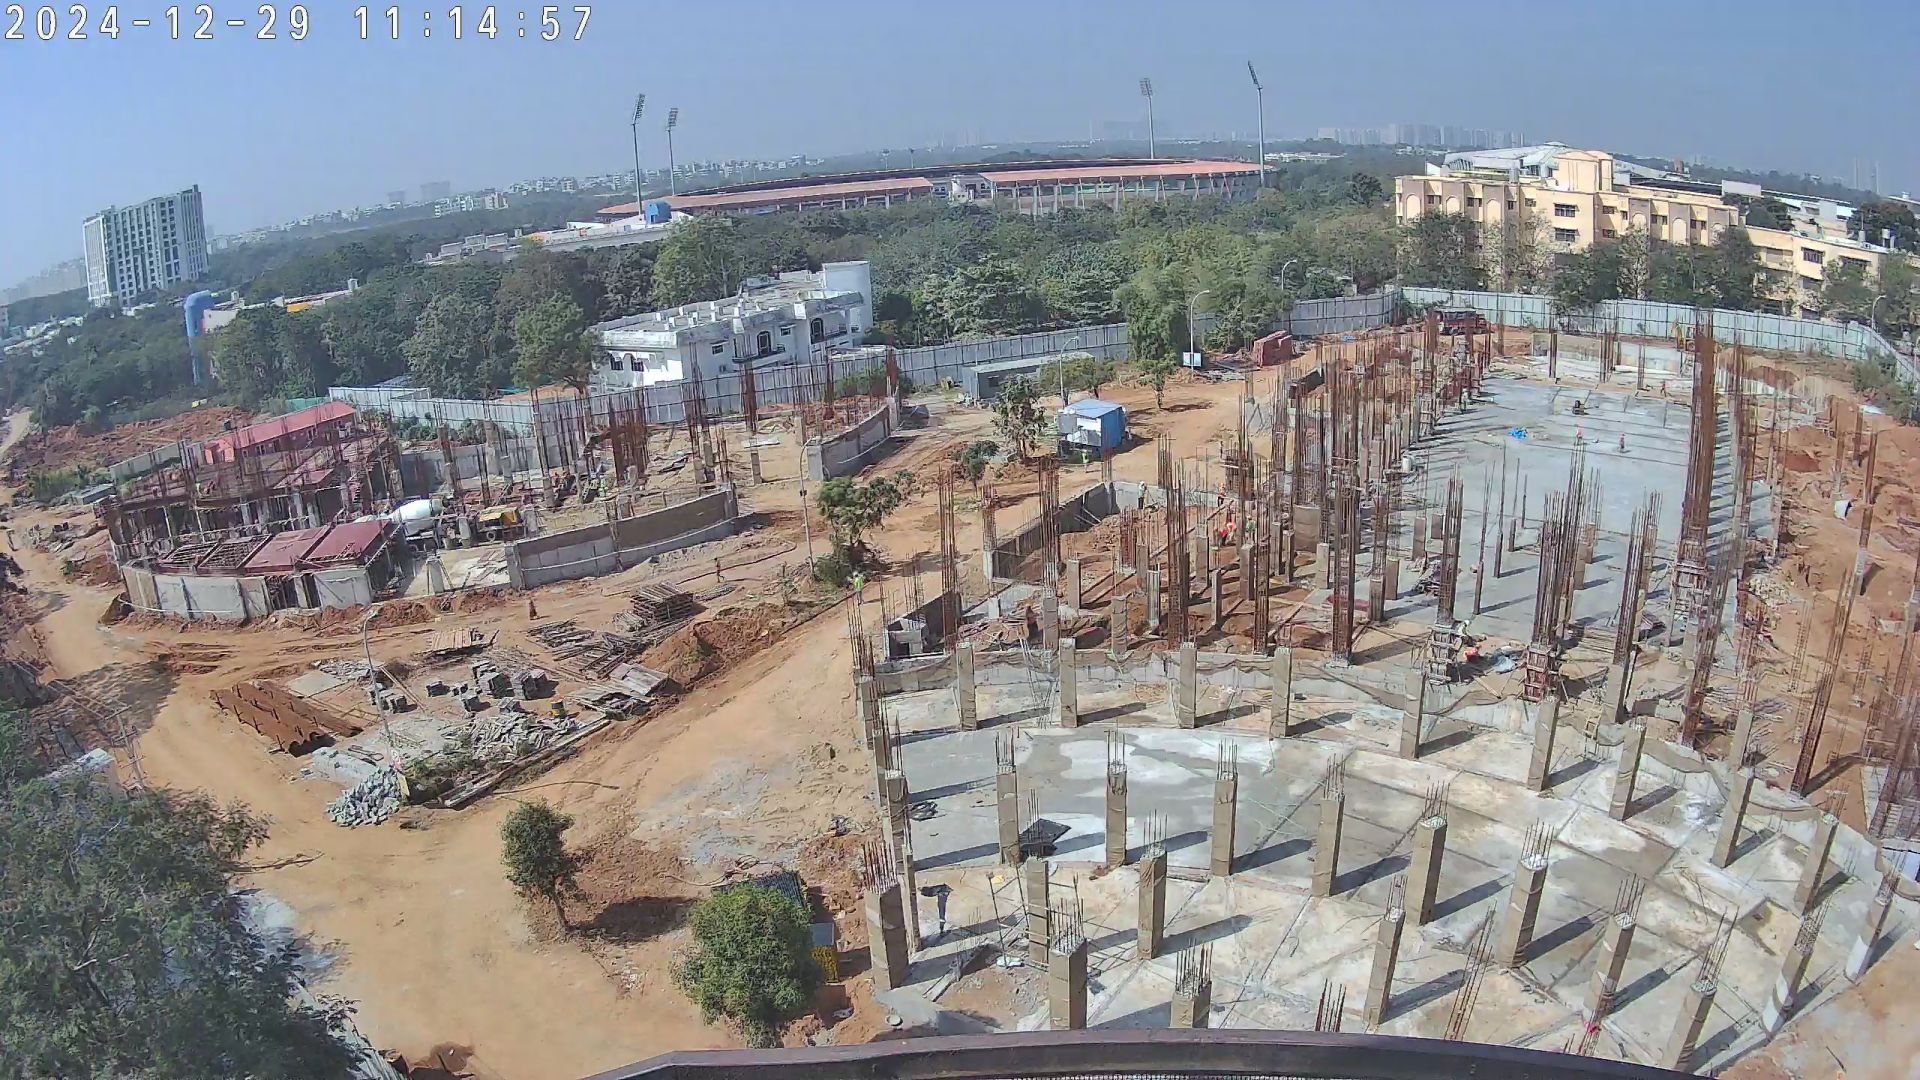truck: (343, 492, 467, 547)
worker: (849, 568, 872, 610), (1021, 602, 1044, 643), (1452, 617, 1475, 648), (1244, 512, 1261, 549), (524, 595, 545, 622), (1222, 515, 1240, 545), (1213, 522, 1231, 549), (712, 555, 728, 584), (1134, 479, 1148, 511), (1079, 446, 1094, 475), (1463, 645, 1484, 665), (1215, 479, 1228, 510), (1572, 422, 1586, 449), (1615, 431, 1630, 456), (549, 468, 562, 490)
